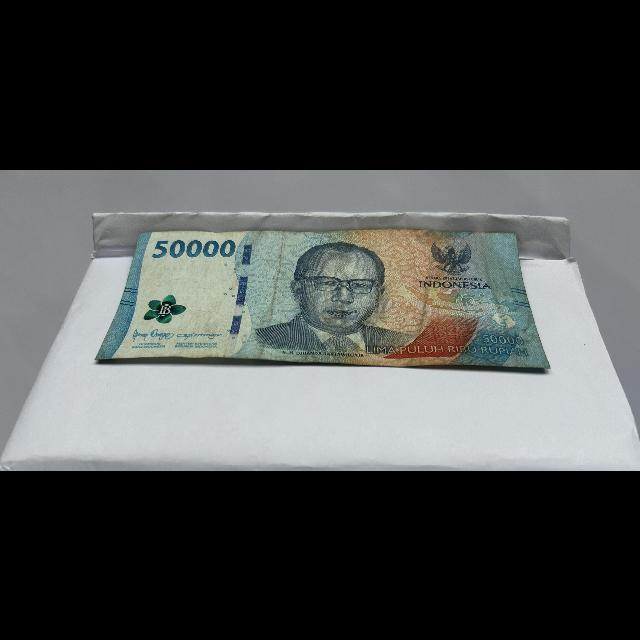Asli-50k: (90, 229, 556, 371)
Tinta-Asli-50k: (142, 293, 191, 324)
